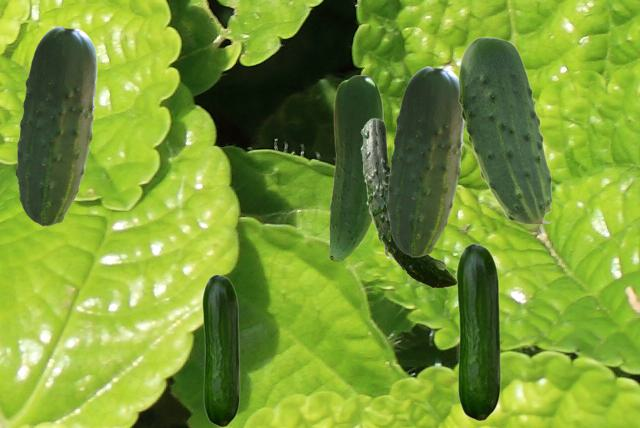cucumber: (458, 36, 550, 222), (360, 118, 456, 287), (15, 26, 96, 225), (386, 66, 464, 256), (329, 75, 382, 261), (456, 243, 500, 420), (202, 274, 239, 426)
